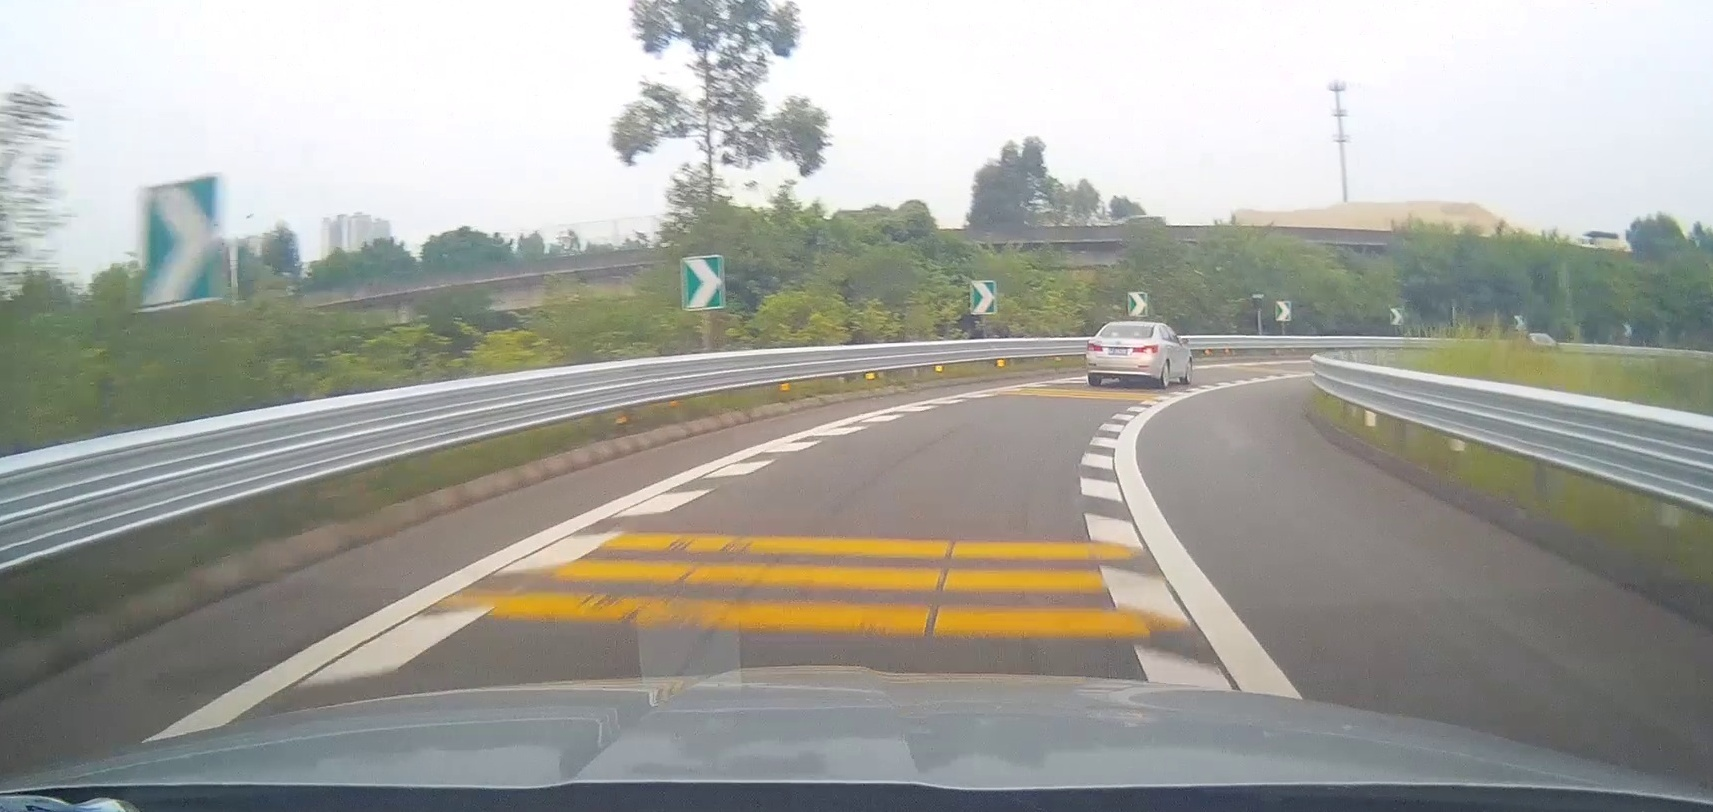L_light: (1086, 342, 1103, 352)
R_light: (1132, 344, 1158, 353)
T_light: (1122, 325, 1134, 329)
day-right: (1086, 321, 1161, 389)
